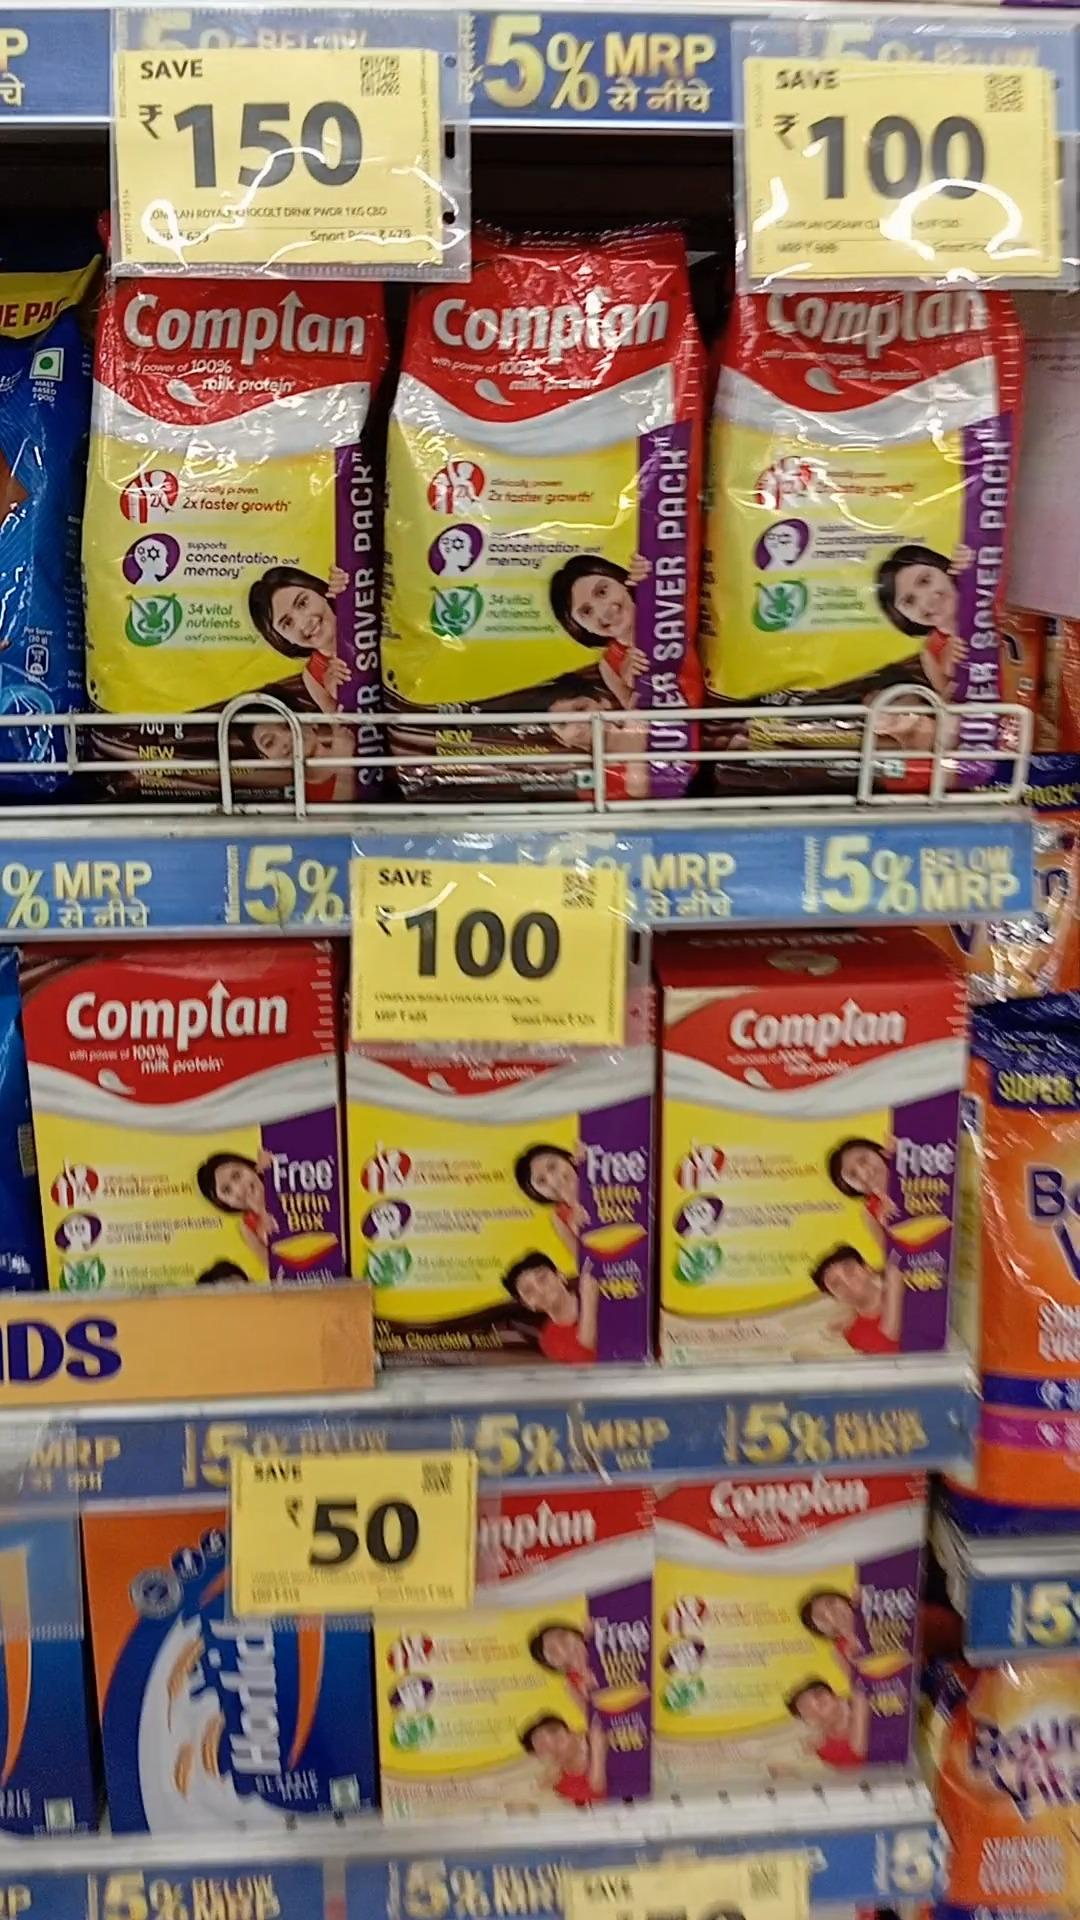COMPLAN_CHOCOLATE_500_GMS_PACK: (343, 1006, 640, 1360), (34, 960, 334, 1282)
COMPLAN_KESAR_BADAM_500_GMS_PACK: (665, 980, 964, 1358), (654, 1474, 924, 1796), (384, 1481, 645, 1812)
COMPLAN_RC_POUCH_700_GMS_12: (401, 225, 695, 818), (92, 252, 382, 794), (704, 298, 1027, 778)
HORLICK_CLASSIC_MALT_500_G_PACK: (113, 1516, 381, 1826)
